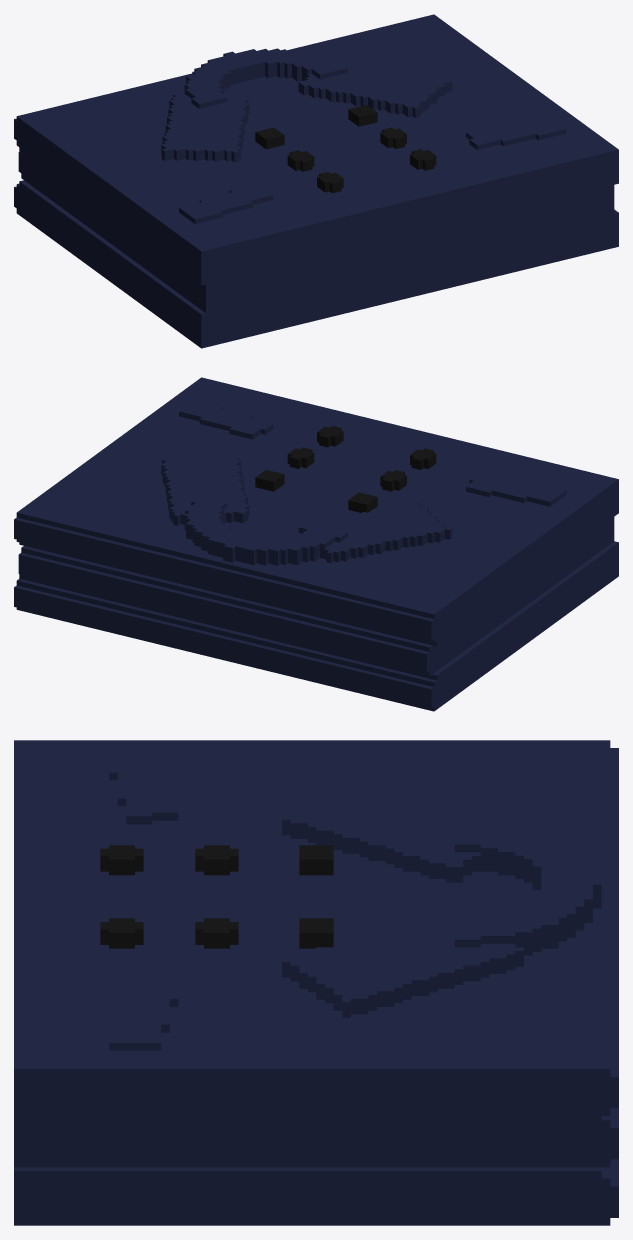
Rendered from peacoat.glb.
The picture shows the model from 3 angles, top to bottom: view 1: azimuth 30°, elevation 25°; view 2: azimuth 150°, elevation 25°; view 3: azimuth 270°, elevation 25°; orthographic projection. The views are drawn at different scales.
Parts seen in each view (by area): view 1: peacoat:compound; view 2: peacoat:compound; view 3: peacoat:compound.
Part boxes in pixels (x1,y1,x2,y2): peacoat:compound: (14,14,618,348); peacoat:compound: (14,377,618,711); peacoat:compound: (14,740,618,1225).
Size of the model in its own units: 0.36 by 0.092 by 0.28.
